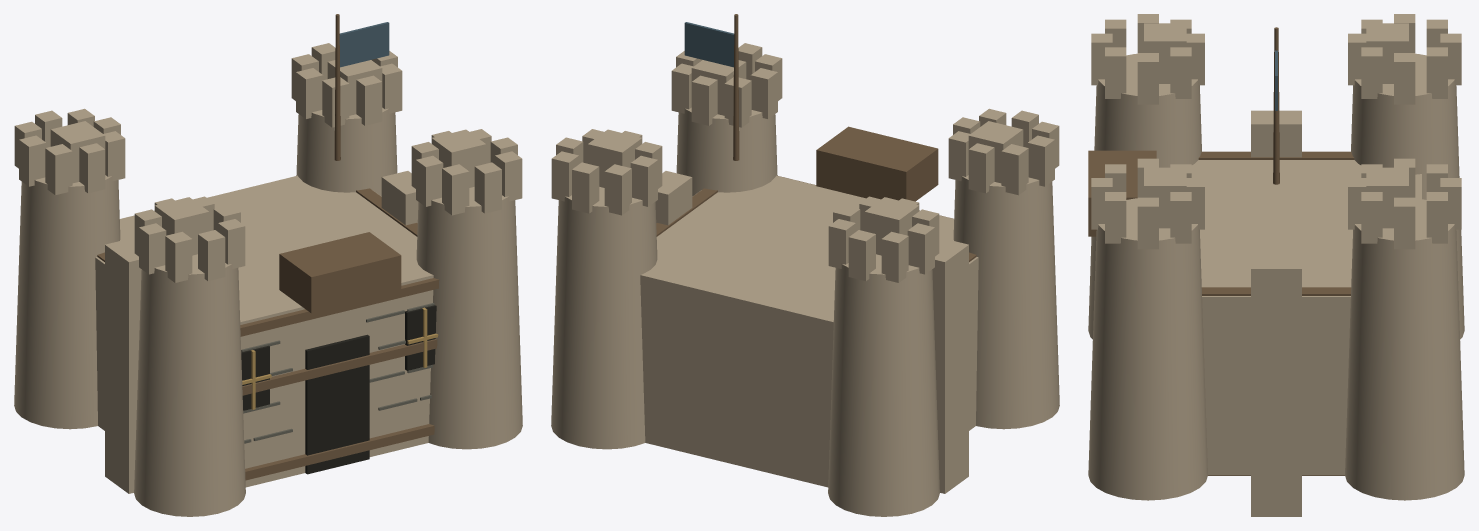
The model's file is b-tower-castilian.glb.
The picture shows the model from 3 angles, left to right: view 1: azimuth 30°, elevation 25°; view 2: azimuth 150°, elevation 25°; view 3: azimuth 270°, elevation 25°; orthographic projection. The views are drawn at different scales.
Visible parts, largest first — view 1: Structure, fortification3, fortification2; view 2: Structure, fortification3, fortification2; view 3: Structure, fortification3, fortification2.
Part boxes in pixels (bbox=[...]): Structure: bbox=[14, 14, 522, 516]; fortification3: bbox=[50, 60, 486, 493]; fortification2: bbox=[105, 193, 418, 459]; Structure: bbox=[551, 14, 1059, 516]; fortification3: bbox=[587, 60, 1023, 493]; fortification2: bbox=[655, 193, 968, 469]; Structure: bbox=[1088, 14, 1464, 500]; fortification3: bbox=[1088, 23, 1408, 516]; fortification2: bbox=[1251, 141, 1301, 499].
Bounding box in the file's own units: 5.4 × 5.75 × 4.4.
